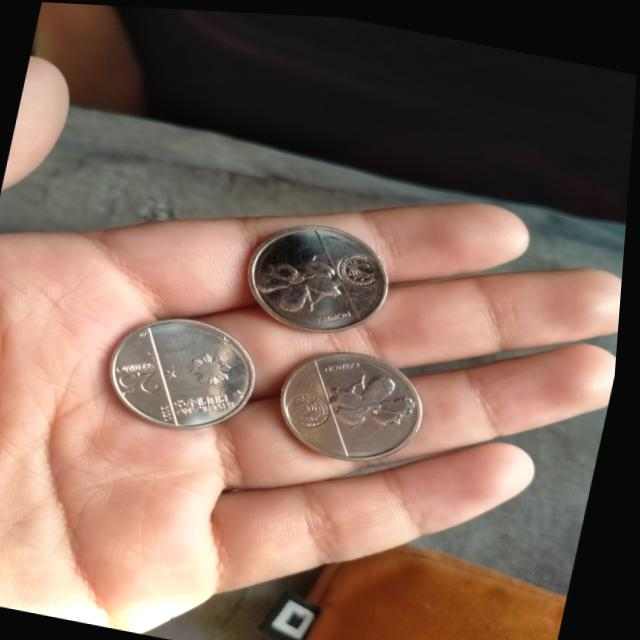25Cent_New_Back: (246, 244, 350, 318), (323, 362, 420, 433)
25Cent_New_Front: (112, 352, 181, 404)
